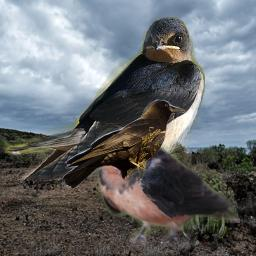Crow: (62, 97, 187, 192)
Swallow: (1, 17, 205, 181), (85, 128, 240, 247)
